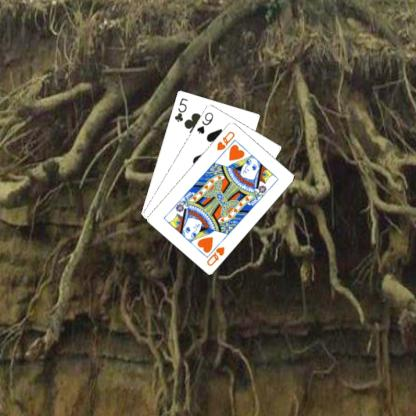5C: (171, 95, 189, 122)
9S: (194, 109, 214, 135)
QH: (203, 238, 226, 267), (214, 128, 236, 152)
